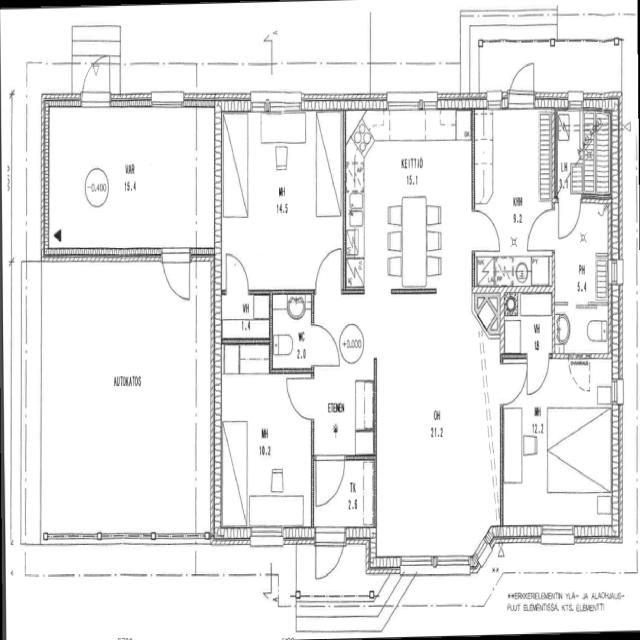door: (45, 105, 202, 245), (312, 522, 348, 585), (312, 452, 347, 512), (79, 53, 113, 109), (311, 241, 345, 297), (161, 245, 192, 305), (524, 202, 559, 255), (308, 319, 342, 371), (283, 369, 316, 422), (498, 354, 530, 407), (470, 204, 503, 255), (507, 56, 538, 108), (555, 190, 583, 243), (222, 248, 252, 295), (524, 350, 551, 399), (567, 354, 593, 397)
window: (398, 547, 476, 581), (384, 90, 435, 115), (254, 91, 306, 115), (538, 521, 578, 548), (153, 528, 204, 548), (248, 523, 286, 548), (472, 534, 494, 575), (149, 90, 186, 110), (610, 253, 623, 287), (612, 372, 624, 408), (485, 90, 505, 110), (566, 89, 586, 108)
zone: (41, 104, 206, 246), (220, 108, 343, 292), (348, 115, 473, 294), (500, 366, 618, 534), (218, 357, 314, 537), (472, 105, 553, 266), (552, 196, 612, 357), (307, 449, 371, 537), (312, 368, 376, 452), (554, 106, 613, 195), (270, 290, 316, 374), (501, 289, 556, 358), (553, 304, 612, 361), (219, 290, 272, 344)
